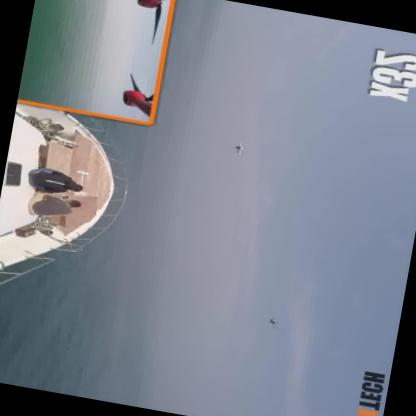drone: (232, 141, 252, 158), (263, 314, 282, 330)
